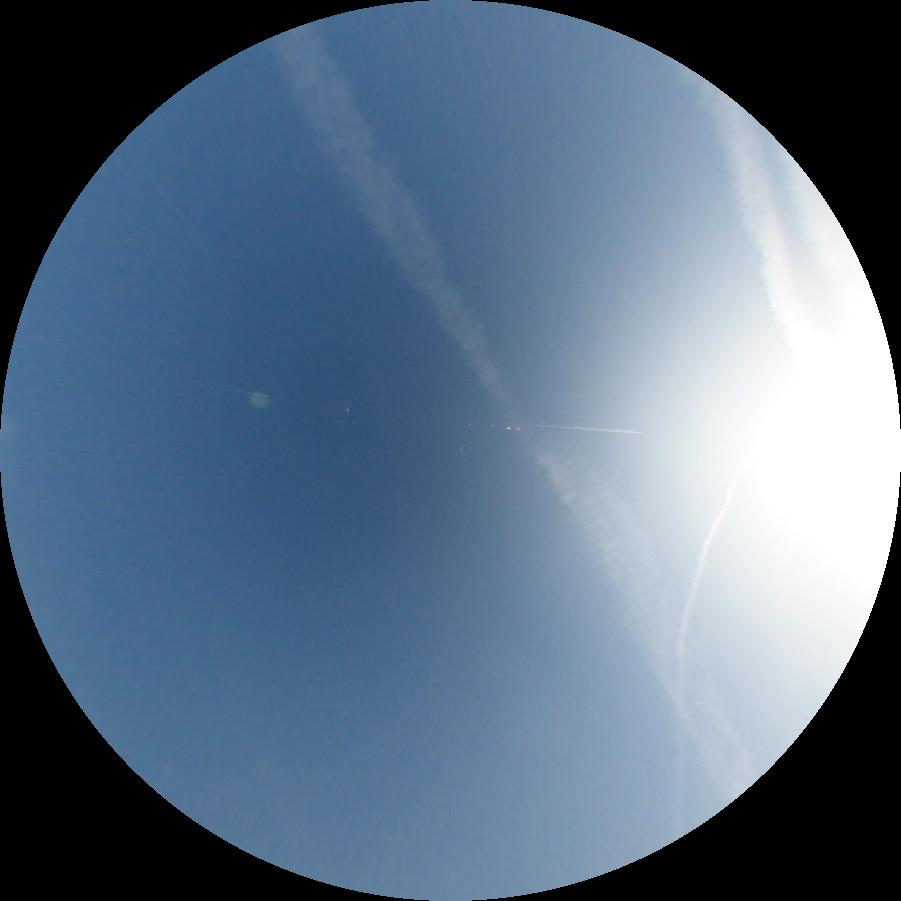contrail maybe: (469, 649, 502, 679)
contrail old: (674, 473, 744, 840)
contrail veryold: (267, 23, 764, 792), (690, 68, 799, 334), (788, 153, 891, 374)
contrail young: (122, 141, 214, 260), (494, 422, 646, 435), (221, 388, 269, 396)
sun: (730, 313, 899, 627)
